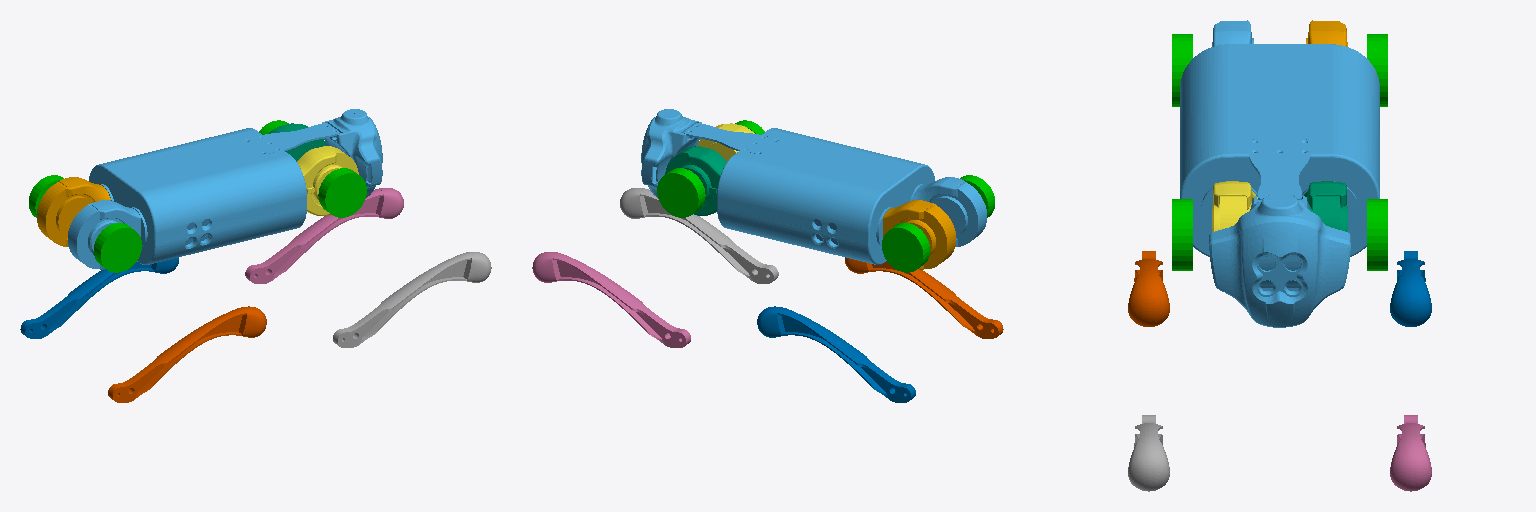
--- What the picture shows (computed from the rendered views, not written in the file) ---
Views: 3 orthographic renders of the robot side by side, from view 1: azimuth 30°, elevation 25°; view 2: azimuth 150°, elevation 25°; view 3: azimuth 270°, elevation 25°.
Robot: go1 — 46 links, 45 joints (12 revolute, 33 fixed); root link base; default pose: joints at zero except 4 at the middle of their limits (FR_calf_joint = -1.85, FL_calf_joint = -1.85, RR_calf_joint = -1.85, RL_calf_joint = -1.85).
Links seen in each view (by area): view 1: trunk, FR_calf, RR_calf, FL_calf, RL_hip, RL_calf, RR_hip, FR_hip, FR_calf_rotor, RR_calf_rotor, FL_hip, RL_calf_rotor; view 2: trunk, FL_calf, RL_calf, FR_calf, RR_hip, RR_calf, RL_hip, FL_hip, FL_calf_rotor, RL_calf_rotor, FR_hip, RR_calf_rotor; view 3: trunk, FR_calf, FL_calf, RR_calf, RL_calf, FR_hip, FL_hip, FR_calf_rotor, FL_calf_rotor, RR_calf_rotor, RL_calf_rotor, RR_hip (+1 smaller).
Boxes of the visible links, bbox=[...] form: trunk: bbox=[89, 109, 382, 264]; FR_calf: bbox=[333, 252, 491, 347]; RR_calf: bbox=[108, 306, 266, 402]; FL_calf: bbox=[245, 188, 403, 283]; RL_hip: bbox=[37, 177, 110, 246]; RL_calf: bbox=[20, 257, 178, 338]; RR_hip: bbox=[68, 200, 140, 269]; FR_hip: bbox=[297, 146, 358, 215]; FR_calf_rotor: bbox=[318, 168, 366, 217]; RR_calf_rotor: bbox=[94, 223, 141, 272]; FL_hip: bbox=[269, 123, 326, 161]; RL_calf_rotor: bbox=[29, 175, 63, 217]; trunk: bbox=[641, 109, 934, 264]; FL_calf: bbox=[532, 252, 690, 347]; RL_calf: bbox=[757, 306, 915, 402]; FR_calf: bbox=[620, 188, 778, 283]; RR_hip: bbox=[913, 177, 986, 246]; RR_calf: bbox=[845, 257, 1003, 338]; RL_hip: bbox=[883, 200, 955, 269]; FL_hip: bbox=[665, 146, 726, 215]; FL_calf_rotor: bbox=[657, 168, 705, 217]; RL_calf_rotor: bbox=[882, 223, 929, 272]; FR_hip: bbox=[697, 123, 754, 161]; RR_calf_rotor: bbox=[960, 175, 994, 217]; trunk: bbox=[1180, 44, 1379, 327]; FR_calf: bbox=[1128, 415, 1169, 491]; FL_calf: bbox=[1390, 415, 1431, 491]; RR_calf: bbox=[1128, 251, 1169, 326]; RL_calf: bbox=[1390, 251, 1431, 326]; FR_hip: bbox=[1212, 181, 1257, 231]; FL_hip: bbox=[1302, 181, 1347, 231]; FR_calf_rotor: bbox=[1172, 199, 1192, 270]; FL_calf_rotor: bbox=[1367, 199, 1387, 270]; RR_calf_rotor: bbox=[1172, 34, 1192, 106]; RL_calf_rotor: bbox=[1367, 34, 1387, 106]; RR_hip: bbox=[1212, 20, 1253, 46].
Bounding box of the posed robot: 0.6511 × 0.294 × 0.3019 m (x, y, z).
Meshes: 7 distinct files referenced, 9 mesh visuals loaded (3 Collada DAE); not drawn: 12 (reference not matched to a file when rendering).

robot.urdf — go1:
<?xml version="1.0" ?>
<robot name="go1" xmlns:xacro="http://www.ros.org/wiki/xacro">
  <material name="black">
    <color rgba="0.0 0.0 0.0 1.0"/>
  </material>
  <material name="blue">
    <color rgba="0.0 0.0 0.8 1.0"/>
  </material>
  <material name="green">
    <color rgba="0.0 0.8 0.0 1.0"/>
  </material>
  <material name="grey">
    <color rgba="0.2 0.2 0.2 1.0"/>
  </material>
  <material name="silver">
    <color rgba="0.9137254901960784 0.9137254901960784 0.8470588235294118 1.0"/>
  </material>
  <material name="orange">
    <!-- <color rgba="1.0 0.4235294117647059 0.0392156862745098 1.0"/> -->
    <color rgba="0.12 0.15 0.2 1.0"/>
  </material>
  <material name="brown">
    <color rgba="0.8705882352941177 0.8117647058823529 0.7647058823529411 1.0"/>
  </material>
  <material name="red">
    <color rgba="0.8 0.0 0.0 1.0"/>
  </material>
  <material name="white">
    <color rgba="1.0 1.0 1.0 1.0"/>
  </material>
  <link name="base">
    <visual>
      <origin rpy="0 0 0" xyz="0 0 0"/>
      <geometry>
        <box size="0.001 0.001 0.001"/>
      </geometry>
    </visual>
  </link>
  <joint name="floating_base" type="fixed">
    <origin rpy="0 0 0" xyz="0 0 0"/>
    <parent link="base"/>
    <child link="trunk"/>
  </joint>
  <link name="trunk">
    <visual>
      <origin rpy="0 0 0" xyz="0 0 0"/>
      <geometry>
        <mesh filename="../meshes/trunk.dae" scale="1 1 1"/>
      </geometry>
      <!-- <material name="orange"/> -->
    </visual>
    <collision>
      <origin rpy="0 0 0" xyz="0 0 0"/>
      <geometry>
        <box size="0.3762 0.0935 0.114"/>
      </geometry>
    </collision>
    <inertial>
      <origin rpy="0 0 0" xyz="0.0223 0.002 -0.0005"/>
      <mass value="5.204"/>
      <inertia ixx="0.0168128557" ixy="-0.0002296769" ixz="-0.0002945293" iyy="0.063009565" iyz="-4.18731e-05" izz="0.0716547275"/>
    </inertial>
  </link>
  <joint name="imu_joint" type="fixed">
    <parent link="trunk"/>
    <child link="imu_link"/>
    <origin rpy="0 0 0" xyz="-0.01592 -0.06659 -0.00617"/>
  </joint>
  <link name="imu_link">
    <inertial>
      <mass value="0.001"/>
      <origin rpy="0 0 0" xyz="0 0 0"/>
      <inertia ixx="0.0001" ixy="0" ixz="0" iyy="0.0001" iyz="0" izz="0.0001"/>
    </inertial>
    <visual>
      <origin rpy="0 0 0" xyz="0 0 0"/>
      <geometry>
        <box size="0.001 0.001 0.001"/>
      </geometry>
      <material name="red"/>
    </visual>
    <!-- <collision>
      <origin rpy="0 0 0" xyz="0 0 0"/>
      <geometry>
        <box size=".001 .001 .001"/>
      </geometry>
    </collision> -->
  </link>
  <joint name="FR_hip_joint" type="revolute">
    <origin rpy="0 0 0" xyz="0.1881 -0.04675 0"/>
    <parent link="trunk"/>
    <child link="FR_hip"/>
    <axis xyz="1 0 0"/>
    <dynamics damping="0" friction="0"/>
    <limit effort="23.7" lower="-0.863" upper="0.863" velocity="30.1"/>
  </joint>
  <joint name="FR_hip_rotor_joint" type="fixed">
    <origin rpy="0 0 0" xyz="0.11215 -0.04675 0"/>
    <parent link="trunk"/>
    <child link="FR_hip_rotor"/>
  </joint>
  <link name="FR_hip">
    <visual>
      <origin rpy="3.141592653589793 0 0" xyz="0 0 0"/>
      <geometry>
        <mesh filename="../meshes/hip.dae" scale="1 1 1"/>
      </geometry>
      <!-- <material name="orange"/> -->
    </visual>
    <!-- <collision>
      <origin rpy="1.5707963267948966 0 0" xyz="0 -0.08 0"/>
      <geometry>
        <cylinder length="0.04" radius="0.046"/>
      </geometry>
    </collision> -->
    <inertial>
      <origin rpy="0 0 0" xyz="-0.005657 0.008752 -0.000102"/>
      <mass value="0.591"/>
      <inertia ixx="0.000334008405" ixy="1.0826066e-05" ixz="1.290732e-06" iyy="0.000619101213" iyz="-1.643194e-06" izz="0.00040057614"/>
    </inertial>
  </link>
  <link name="FR_hip_rotor">
    <visual>
      <origin rpy="0 1.5707963267948966 0" xyz="0 0 0"/>
      <geometry>
        <cylinder length="0.02" radius="0.035"/>
      </geometry>
      <material name="green"/>
    </visual>
    <!-- <collision>
      <origin rpy="0 1.5707963267948966 0" xyz="0 0 0"/>
      <geometry>
        <cylinder length="0.02" radius="0.035"/>
      </geometry>
    </collision> -->
    <inertial>
      <origin rpy="0 0 0" xyz="0.0 0.0 0.0"/>
      <mass value="0.089"/>
      <inertia ixx="0.000111842" ixy="0.0" ixz="0.0" iyy="5.9647e-05" iyz="0.0" izz="5.9647e-05"/>
    </inertial>
  </link>
  <joint name="FR_thigh_joint" type="revolute">
    <origin rpy="0 0 0" xyz="0 -0.08 0"/>
    <parent link="FR_hip"/>
    <child link="FR_thigh"/>
    <axis xyz="0 1 0"/>
    <dynamics damping="0" friction="0"/>
    <limit effort="23.7" lower="-0.686" upper="4.501" velocity="30.1"/>
  </joint>
  <joint name="FR_thigh_rotor_joint" type="fixed">
    <origin rpy="0 0 0" xyz="0.0 0.00015 0"/>
    <parent link="FR_hip"/>
    <child link="FR_thigh_rotor"/>
  </joint>
  <link name="FR_thigh">
    <visual>
      <origin rpy="0 0 0" xyz="0 0 0"/>
      <geometry>
        <mesh filename="../meshes/thigh_mirror.dae" scale="1 1 1"/>
      </geometry>
      <!-- <material name="orange"/> -->
    </visual>
    <collision>
      <origin rpy="0 1.5707963267948966 0" xyz="0 0 -0.1065"/>
      <geometry>
        <box size="0.213 0.0245 0.034"/>
      </geometry>
    </collision>
    <inertial>
      <origin rpy="0 0 0" xyz="-0.003342 0.018054 -0.033451"/>
      <mass value="0.92"/>
      <inertia ixx="0.004431760472" ixy="-5.7496807e-05" ixz="-0.000218457134" iyy="0.004485671726" iyz="-0.000572001265" izz="0.000740309489"/>
    </inertial>
  </link>
  <link name="FR_thigh_rotor">
    <visual>
      <origin rpy="1.5707963267948966 0 0" xyz="0 0 0"/>
      <geometry>
        <cylinder length="0.02" radius="0.035"/>
      </geometry>
      <material name="green"/>
    </visual>
    <!-- <collision>
      <origin rpy="1.5707963267948966 0 0" xyz="0 0 0"/>
      <geometry>
        <cylinder length="0.02" radius="0.035"/>
      </geometry>
    </collision> -->
    <inertial>
      <origin rpy="0 0 0" xyz="0.0 0.0 0.0"/>
      <mass value="0.089"/>
      <inertia ixx="5.9647e-05" ixy="0.0" ixz="0.0" iyy="0.000111842" iyz="0.0" izz="5.9647e-05"/>
    </inertial>
  </link>
  <joint name="FR_calf_joint" type="revolute">
    <origin rpy="0 0 0" xyz="0 0 -0.213"/>
    <parent link="FR_thigh"/>
    <child link="FR_calf"/>
    <axis xyz="0 1 0"/>
    <dynamics damping="0" friction="0"/>
    <limit effort="35.55" lower="-2.818" upper="-0.888" velocity="20.06"/>
  </joint>
  <joint name="FR_calf_rotor_joint" type="fixed">
    <origin rpy="0 0 0" xyz="0.0 0.03235 0"/>
    <parent link="FR_thigh"/>
    <child link="FR_calf_rotor"/>
  </joint>
  <link name="FR_calf">
    <visual>
      <origin rpy="0 0 0" xyz="0 0 0"/>
      <geometry>
        <mesh filename="../meshes/calf.dae" scale="1 1 1"/>
      </geometry>
      <!-- <material name="orange"/> -->
    </visual>
    <collision>
      <origin rpy="0 1.5707963267948966 0" xyz="0 0 -0.1065"/>
      <geometry>
        <box size="0.213 0.016 0.016"/>
      </geometry>
    </collision>
    <inertial>
      <origin rpy="0 0 0" xyz="0.006197 0.001408 -0.116695"/>
      <mass value="0.135862"/>
      <inertia ixx="0.001088793059" ixy="-2.55679e-07" ixz="7.117814e-06" iyy="0.001100428748" iyz="2.077264e-06" izz="2.4787446e-05"/>
    </inertial>
  </link>
  <link name="FR_calf_rotor">
    <visual>
      <origin rpy="1.5707963267948966 0 0" xyz="0 0 0"/>
      <geometry>
        <cylinder length="0.02" radius="0.035"/>
      </geometry>
      <material name="green"/>
    </visual>
    <!-- <collision>
      <origin rpy="1.5707963267948966 0 0" xyz="0 0 0"/>
      <geometry>
        <cylinder length="0.02" radius="0.035"/>
      </geometry>
    </collision> -->
    <inertial>
      <origin rpy="0 0 0" xyz="0.0 0.0 0.0"/>
      <mass value="0.089"/>
      <inertia ixx="5.9647e-05" ixy="0.0" ixz="0.0" iyy="0.000111842" iyz="0.0" izz="5.9647e-05"/>
    </inertial>
  </link>
  <joint name="FR_foot_fixed" type="fixed" dont_collapse="true">
    <origin rpy="0 0 0" xyz="0 0 -0.213"/>
    <parent link="FR_calf"/>
    <child link="FR_foot"/>
  </joint>
  <link name="FR_foot">
    <visual>
      <origin rpy="0 0 0" xyz="0 0 0"/>
      <geometry>
        <sphere radius="0.01"/>
      </geometry>
      <material name="black"/>
    </visual>
    <collision>
      <origin rpy="0 0 0" xyz="0 0 0"/>
      <geometry>
        <sphere radius="0.02"/>
      </geometry>
    </collision>
    <inertial>
      <mass value="0.06"/>
      <inertia ixx="9.600000000000001e-06" ixy="0.0" ixz="0.0" iyy="9.600000000000001e-06" iyz="0.0" izz="9.600000000000001e-06"/>
    </inertial>
  </link>
  <joint name="FL_hip_joint" type="revolute">
    <origin rpy="0 0 0" xyz="0.1881 0.04675 0"/>
    <parent link="trunk"/>
    <child link="FL_hip"/>
    <axis xyz="1 0 0"/>
    <dynamics damping="0" friction="0"/>
    <limit effort="23.7" lower="-0.863" upper="0.863" velocity="30.1"/>
  </joint>
  <joint name="FL_hip_rotor_joint" type="fixed">
    <origin rpy="0 0 0" xyz="0.11215 0.04675 0"/>
    <parent link="trunk"/>
    <child link="FL_hip_rotor"/>
  </joint>
  <link name="FL_hip">
    <visual>
      <origin rpy="0 0 0" xyz="0 0 0"/>
      <geometry>
        <mesh filename="../meshes/hip.dae" scale="1 1 1"/>
      </geometry>
      <!-- <material name="orange"/> -->
    </visual>
    <!-- <collision>
      <origin rpy="1.5707963267948966 0 0" xyz="0 0.08 0"/>
      <geometry>
        <cylinder length="0.04" radius="0.046"/>
      </geometry>
    </collision> -->
    <inertial>
      <origin rpy="0 0 0" xyz="-0.005657 -0.008752 -0.000102"/>
      <mass value="0.591"/>
      <inertia ixx="0.000334008405" ixy="-1.0826066e-05" ixz="1.290732e-06" iyy="0.000619101213" iyz="1.643194e-06" izz="0.00040057614"/>
    </inertial>
  </link>
  <link name="FL_hip_rotor">
    <visual>
      <origin rpy="0 1.5707963267948966 0" xyz="0 0 0"/>
      <geometry>
        <cylinder length="0.02" radius="0.035"/>
      </geometry>
      <material name="green"/>
    </visual>
    <!-- <collision>
      <origin rpy="0 1.5707963267948966 0" xyz="0 0 0"/>
      <geometry>
        <cylinder length="0.02" radius="0.035"/>
      </geometry>
    </collision> -->
    <inertial>
      <origin rpy="0 0 0" xyz="0.0 0.0 0.0"/>
      <mass value="0.089"/>
      <inertia ixx="0.000111842" ixy="0.0" ixz="0.0" iyy="5.9647e-05" iyz="0.0" izz="5.9647e-05"/>
    </inertial>
  </link>
  <joint name="FL_thigh_joint" type="revolute">
    <origin rpy="0 0 0" xyz="0 0.08 0"/>
    <parent link="FL_hip"/>
    <child link="FL_thigh"/>
    <axis xyz="0 1 0"/>
    <dynamics damping="0" friction="0"/>
    <limit effort="23.7" lower="-0.686" upper="4.501" velocity="30.1"/>
  </joint>
  <joint name="FL_thigh_rotor_joint" type="fixed">
    <origin rpy="0 0 0" xyz="0.0 -0.00015 0"/>
    <parent link="FL_hip"/>
    <child link="FL_thigh_rotor"/>
  </joint>
  <link name="FL_thigh">
    <visual>
      <origin rpy="0 0 0" xyz="0 0 0"/>
      <geometry>
        <mesh filename="../meshes/thigh.dae" scale="1 1 1"/>
      </geometry>
      <!-- <material name="orange"/> -->
    </visual>
    <collision>
      <origin rpy="0 1.5707963267948966 0" xyz="0 0 -0.1065"/>
      <geometry>
        <box size="0.213 0.0245 0.034"/>
      </geometry>
    </collision>
    <inertial>
      <origin rpy="0 0 0" xyz="-0.003342 -0.018054 -0.033451"/>
      <mass value="0.92"/>
      <inertia ixx="0.004431760472" ixy="5.7496807e-05" ixz="-0.000218457134" iyy="0.004485671726" iyz="0.000572001265" izz="0.000740309489"/>
    </inertial>
  </link>
  <link name="FL_thigh_rotor">
    <visual>
      <origin rpy="1.5707963267948966 0 0" xyz="0 0 0"/>
      <geometry>
        <cylinder length="0.02" radius="0.035"/>
      </geometry>
      <material name="green"/>
    </visual>
    <!-- <collision>
      <origin rpy="1.5707963267948966 0 0" xyz="0 0 0"/>
      <geometry>
        <cylinder length="0.02" radius="0.035"/>
      </geometry>
    </collision> -->
    <inertial>
      <origin rpy="0 0 0" xyz="0.0 0.0 0.0"/>
      <mass value="0.089"/>
      <inertia ixx="5.9647e-05" ixy="0.0" ixz="0.0" iyy="0.000111842" iyz="0.0" izz="5.9647e-05"/>
    </inertial>
  </link>
  <joint name="FL_calf_joint" type="revolute">
    <origin rpy="0 0 0" xyz="0 0 -0.213"/>
    <parent link="FL_thigh"/>
    <child link="FL_calf"/>
    <axis xyz="0 1 0"/>
    <dynamics damping="0" friction="0"/>
    <limit effort="35.55" lower="-2.818" upper="-0.888" velocity="20.06"/>
  </joint>
  <joint name="FL_calf_rotor_joint" type="fixed">
    <origin rpy="0 0 0" xyz="0.0 -0.03235 0"/>
    <parent link="FL_thigh"/>
    <child link="FL_calf_rotor"/>
  </joint>
  <link name="FL_calf">
    <visual>
      <origin rpy="0 0 0" xyz="0 0 0"/>
      <geometry>
        <mesh filename="../meshes/calf.dae" scale="1 1 1"/>
      </geometry>
      <!-- <material name="orange"/> -->
    </visual>
    <collision>
      <origin rpy="0 1.5707963267948966 0" xyz="0 0 -0.1065"/>
      <geometry>
        <box size="0.213 0.016 0.016"/>
      </geometry>
    </collision>
    <inertial>
      <origin rpy="0 0 0" xyz="0.006197 0.001408 -0.116695"/>
      <mass value="0.135862"/>
      <inertia ixx="0.001088793059" ixy="-2.55679e-07" ixz="7.117814e-06" iyy="0.001100428748" iyz="2.077264e-06" izz="2.4787446e-05"/>
    </inertial>
  </link>
  <link name="FL_calf_rotor">
    <visual>
      <origin rpy="1.5707963267948966 0 0" xyz="0 0 0"/>
      <geometry>
        <cylinder length="0.02" radius="0.035"/>
      </geometry>
      <material name="green"/>
    </visual>
    <!-- <collision>
      <origin rpy="1.5707963267948966 0 0" xyz="0 0 0"/>
      <geometry>
        <cylinder length="0.02" radius="0.035"/>
      </geometry>
    </collision> -->
    <inertial>
      <origin rpy="0 0 0" xyz="0.0 0.0 0.0"/>
      <mass value="0.089"/>
      <inertia ixx="5.9647e-05" ixy="0.0" ixz="0.0" iyy="0.000111842" iyz="0.0" izz="5.9647e-05"/>
    </inertial>
  </link>
  <joint name="FL_foot_fixed" type="fixed" dont_collapse="true">
    <origin rpy="0 0 0" xyz="0 0 -0.213"/>
    <parent link="FL_calf"/>
    <child link="FL_foot"/>
  </joint>
  <link name="FL_foot">
    <visual>
      <origin rpy="0 0 0" xyz="0 0 0"/>
      <geometry>
        <sphere radius="0.01"/>
      </geometry>
      <material name="black"/>
    </visual>
    <collision>
      <origin rpy="0 0 0" xyz="0 0 0"/>
      <geometry>
        <sphere radius="0.02"/>
      </geometry>
    </collision>
    <inertial>
      <mass value="0.06"/>
      <inertia ixx="9.600000000000001e-06" ixy="0.0" ixz="0.0" iyy="9.600000000000001e-06" iyz="0.0" izz="9.600000000000001e-06"/>
    </inertial>
  </link>
  <joint name="RR_hip_joint" type="revolute">
    <origin rpy="0 0 0" xyz="-0.1881 -0.04675 0"/>
    <parent link="trunk"/>
    <child link="RR_hip"/>
    <axis xyz="1 0 0"/>
    <dynamics damping="0" friction="0"/>
    <limit effort="23.7" lower="-0.863" upper="0.863" velocity="30.1"/>
  </joint>
  <joint name="RR_hip_rotor_joint" type="fixed">
    <origin rpy="0 0 0" xyz="-0.11215 -0.04675 0"/>
    <parent link="trunk"/>
    <child link="RR_hip_rotor"/>
  </joint>
  <link name="RR_hip">
    <visual>
      <origin rpy="3.141592653589793 3.141592653589793 0" xyz="0 0 0"/>
      <geometry>
        <mesh filename="../meshes/hip.dae" scale="1 1 1"/>
      </geometry>
      <!-- <material name="orange"/> -->
    </visual>
    <!-- <collision>
      <origin rpy="1.5707963267948966 0 0" xyz="0 -0.08 0"/>
      <geometry>
        <cylinder length="0.04" radius="0.046"/>
      </geometry>
    </collision> -->
    <inertial>
      <origin rpy="0 0 0" xyz="0.005657 0.008752 -0.000102"/>
      <mass value="0.591"/>
      <inertia ixx="0.000334008405" ixy="-1.0826066e-05" ixz="-1.290732e-06" iyy="0.000619101213" iyz="-1.643194e-06" izz="0.00040057614"/>
    </inertial>
  </link>
  <link name="RR_hip_rotor">
    <visual>
      <origin rpy="0 1.5707963267948966 0" xyz="0 0 0"/>
      <geometry>
        <cylinder length="0.02" radius="0.035"/>
      </geometry>
      <material name="green"/>
    </visual>
    <!-- <collision>
      <origin rpy="0 1.5707963267948966 0" xyz="0 0 0"/>
      <geometry>
        <cylinder length="0.02" radius="0.035"/>
      </geometry>
    </collision> -->
    <inertial>
      <origin rpy="0 0 0" xyz="0.0 0.0 0.0"/>
      <mass value="0.089"/>
      <inertia ixx="0.000111842" ixy="0.0" ixz="0.0" iyy="5.9647e-05" iyz="0.0" izz="5.9647e-05"/>
    </inertial>
  </link>
  <joint name="RR_thigh_joint" type="revolute">
    <origin rpy="0 0 0" xyz="0 -0.08 0"/>
    <parent link="RR_hip"/>
    <child link="RR_thigh"/>
    <axis xyz="0 1 0"/>
    <dynamics damping="0" friction="0"/>
    <limit effort="23.7" lower="-0.686" upper="4.501" velocity="30.1"/>
  </joint>
  <joint name="RR_thigh_rotor_joint" type="fixed">
    <origin rpy="0 0 0" xyz="0.0 0.00015 0"/>
    <parent link="RR_hip"/>
    <child link="RR_thigh_rotor"/>
  </joint>
  <link name="RR_thigh">
    <visual>
      <origin rpy="0 0 0" xyz="0 0 0"/>
      <geometry>
        <mesh filename="../meshes/thigh_mirror.dae" scale="1 1 1"/>
      </geometry>
      <!-- <material name="orange"/> -->
    </visual>
    <collision>
      <origin rpy="0 1.5707963267948966 0" xyz="0 0 -0.1065"/>
      <geometry>
        <box size="0.213 0.0245 0.034"/>
      </geometry>
    </collision>
    <inertial>
      <origin rpy="0 0 0" xyz="-0.003342 0.018054 -0.033451"/>
      <mass value="0.92"/>
      <inertia ixx="0.004431760472" ixy="-5.7496807e-05" ixz="-0.000218457134" iyy="0.004485671726" iyz="-0.000572001265" izz="0.000740309489"/>
    </inertial>
  </link>
  <link name="RR_thigh_rotor">
    <visual>
      <origin rpy="1.5707963267948966 0 0" xyz="0 0 0"/>
      <geometry>
        <cylinder length="0.02" radius="0.035"/>
      </geometry>
      <material name="green"/>
    </visual>
    <!-- <collision>
      <origin rpy="1.5707963267948966 0 0" xyz="0 0 0"/>
      <geometry>
        <cylinder length="0.02" radius="0.035"/>
      </geometry>
    </collision> -->
    <inertial>
      <origin rpy="0 0 0" xyz="0.0 0.0 0.0"/>
      <mass value="0.089"/>
      <inertia ixx="5.9647e-05" ixy="0.0" ixz="0.0" iyy="0.000111842" iyz="0.0" izz="5.9647e-05"/>
    </inertial>
  </link>
  <joint name="RR_calf_joint" type="revolute">
    <origin rpy="0 0 0" xyz="0 0 -0.213"/>
    <parent link="RR_thigh"/>
    <child link="RR_calf"/>
    <axis xyz="0 1 0"/>
    <dynamics damping="0" friction="0"/>
    <limit effort="35.55" lower="-2.818" upper="-0.888" velocity="20.06"/>
  </joint>
  <joint name="RR_calf_rotor_joint" type="fixed">
    <origin rpy="0 0 0" xyz="0.0 0.03235 0"/>
    <parent link="RR_thigh"/>
    <child link="RR_calf_rotor"/>
  </joint>
  <link name="RR_calf">
    <visual>
      <origin rpy="0 0 0" xyz="0 0 0"/>
      <geometry>
        <mesh filename="../meshes/calf.dae" scale="1 1 1"/>
      </geometry>
      <!-- <material name="orange"/> -->
    </visual>
    <collision>
      <origin rpy="0 1.5707963267948966 0" xyz="0 0 -0.1065"/>
      <geometry>
        <box size="0.213 0.016 0.016"/>
      </geometry>
    </collision>
    <inertial>
      <origin rpy="0 0 0" xyz="0.006197 0.001408 -0.116695"/>
      <mass value="0.135862"/>
      <inertia ixx="0.001088793059" ixy="-2.55679e-07" ixz="7.117814e-06" iyy="0.001100428748" iyz="2.077264e-06" izz="2.4787446e-05"/>
    </inertial>
  </link>
  <link name="RR_calf_rotor">
    <visual>
      <origin rpy="1.5707963267948966 0 0" xyz="0 0 0"/>
      <geometry>
        <cylinder length="0.02" radius="0.035"/>
      </geometry>
      <material name="green"/>
    </visual>
    <collision>
      <origin rpy="1.5707963267948966 0 0" xyz="0 0 0"/>
      <geometry>
        <cylinder length="0.02" radius="0.035"/>
      </geometry>
    </collision>
    <inertial>
      <origin rpy="0 0 0" xyz="0.0 0.0 0.0"/>
      <mass value="0.089"/>
      <inertia ixx="5.9647e-05" ixy="0.0" ixz="0.0" iyy="0.000111842" iyz="0.0" izz="5.9647e-05"/>
    </inertial>
  </link>
  <joint name="RR_foot_fixed" type="fixed" dont_collapse="true">
    <origin rpy="0 0 0" xyz="0 0 -0.213"/>
    <parent link="RR_calf"/>
    <child link="RR_foot"/>
  </joint>
  <link name="RR_foot">
    <visual>
      <origin rpy="0 0 0" xyz="0 0 0"/>
      <geometry>
        <sphere radius="0.01"/>
      </geometry>
      <material name="black"/>
    </visual>
    <collision>
      <origin rpy="0 0 0" xyz="0 0 0"/>
      <geometry>
        <sphere radius="0.02"/>
      </geometry>
    </collision>
    <inertial>
      <mass value="0.06"/>
      <inertia ixx="9.600000000000001e-06" ixy="0.0" ixz="0.0" iyy="9.600000000000001e-06" iyz="0.0" izz="9.600000000000001e-06"/>
    </inertial>
  </link>
  <joint name="RL_hip_joint" type="revolute">
    <origin rpy="0 0 0" xyz="-0.1881 0.04675 0"/>
    <parent link="trunk"/>
    <child link="RL_hip"/>
    <axis xyz="1 0 0"/>
    <dynamics damping="0" friction="0"/>
    <limit effort="23.7" lower="-0.863" upper="0.863" velocity="30.1"/>
  </joint>
  <joint name="RL_hip_rotor_joint" type="fixed">
    <origin rpy="0 0 0" xyz="-0.11215 0.04675 0"/>
    <parent link="trunk"/>
    <child link="RL_hip_rotor"/>
  </joint>
  <link name="RL_hip">
    <visual>
      <origin rpy="0 3.141592653589793 0" xyz="0 0 0"/>
      <geometry>
        <mesh filename="../meshes/hip.dae" scale="1 1 1"/>
      </geometry>
      <!-- <material name="orange"/> -->
    </visual>
    <!-- <collision>
      <origin rpy="1.5707963267948966 0 0" xyz="0 0.08 0"/>
      <geometry>
        <cylinder length="0.04" radius="0.046"/>
      </geometry>
    </collision> -->
    <inertial>
      <origin rpy="0 0 0" xyz="0.005657 -0.008752 -0.000102"/>
      <mass value="0.591"/>
      <inertia ixx="0.000334008405" ixy="1.0826066e-05" ixz="-1.290732e-06" iyy="0.000619101213" iyz="1.643194e-06" izz="0.00040057614"/>
    </inertial>
  </link>
  <link name="RL_hip_rotor">
    <visual>
      <origin rpy="0 1.5707963267948966 0" xyz="0 0 0"/>
      <geometry>
        <cylinder length="0.02" radius="0.035"/>
      </geometry>
      <material name="green"/>
    </visual>
    <!-- <collision>
      <origin rpy="0 1.5707963267948966 0" xyz="0 0 0"/>
      <geometry>
        <cylinder length="0.02" radius="0.035"/>
      </geometry>
    </collision> -->
    <inertial>
      <origin rpy="0 0 0" xyz="0.0 0.0 0.0"/>
      <mass value="0.089"/>
      <inertia ixx="0.000111842" ixy="0.0" ixz="0.0" iyy="5.9647e-05" iyz="0.0" izz="5.9647e-05"/>
    </inertial>
  </link>
  <joint name="RL_thigh_joint" type="revolute">
    <origin rpy="0 0 0" xyz="0 0.08 0"/>
    <parent link="RL_hip"/>
    <child link="RL_thigh"/>
    <axis xyz="0 1 0"/>
    <dynamics damping="0" friction="0"/>
    <limit effort="23.7" lower="-0.686" upper="4.501" velocity="30.1"/>
  </joint>
  <joint name="RL_thigh_rotor_joint" type="fixed">
    <origin rpy="0 0 0" xyz="0.0 -0.00015 0"/>
    <parent link="RL_hip"/>
    <child link="RL_thigh_rotor"/>
  </joint>
  <link name="RL_thigh">
    <visual>
      <origin rpy="0 0 0" xyz="0 0 0"/>
      <geometry>
        <mesh filename="../meshes/thigh.dae" scale="1 1 1"/>
      </geometry>
      <!-- <material name="orange"/> -->
    </visual>
    <collision>
      <origin rpy="0 1.5707963267948966 0" xyz="0 0 -0.1065"/>
      <geometry>
        <box size="0.213 0.0245 0.034"/>
      </geometry>
    </collision>
    <inertial>
      <origin rpy="0 0 0" xyz="-0.003342 -0.018054 -0.033451"/>
      <mass value="0.92"/>
      <inertia ixx="0.004431760472" ixy="5.7496807e-05" ixz="-0.000218457134" iyy="0.004485671726" iyz="0.000572001265" izz="0.000740309489"/>
    </inertial>
  </link>
  <link name="RL_thigh_rotor">
    <visual>
      <origin rpy="1.5707963267948966 0 0" xyz="0 0 0"/>
      <geometry>
        <cylinder length="0.02" radius="0.035"/>
      </geometry>
      <material name="green"/>
    </visual>
    <!-- <collision>
      <origin rpy="1.5707963267948966 0 0" xyz="0 0 0"/>
      <geometry>
        <cylinder length="0.02" radius="0.035"/>
      </geometry>
    </collision> -->
    <inertial>
      <origin rpy="0 0 0" xyz="0.0 0.0 0.0"/>
      <mass value="0.089"/>
      <inertia ixx="5.9647e-05" ixy="0.0" ixz="0.0" iyy="0.000111842" iyz="0.0" izz="5.9647e-05"/>
    </inertial>
  </link>
  <joint name="RL_calf_joint" type="revolute">
    <origin rpy="0 0 0" xyz="0 0 -0.213"/>
    <parent link="RL_thigh"/>
    <child link="RL_calf"/>
    <axis xyz="0 1 0"/>
    <dynamics damping="0" friction="0"/>
    <limit effort="35.55" lower="-2.818" upper="-0.888" velocity="20.06"/>
  </joint>
  <joint name="RL_calf_rotor_joint" type="fixed">
    <origin rpy="0 0 0" xyz="0.0 -0.03235 0"/>
    <parent link="RL_thigh"/>
    <child link="RL_calf_rotor"/>
  </joint>
  <link name="RL_calf">
    <visual>
      <origin rpy="0 0 0" xyz="0 0 0"/>
      <geometry>
        <mesh filename="../meshes/calf.dae" scale="1 1 1"/>
      </geometry>
      <!-- <material name="orange"/> -->
    </visual>
    <collision>
      <origin rpy="0 1.5707963267948966 0" xyz="0 0 -0.1065"/>
      <geometry>
        <box size="0.213 0.016 0.016"/>
      </geometry>
    </collision>
    <inertial>
      <origin rpy="0 0 0" xyz="0.006197 0.001408 -0.116695"/>
      <mass value="0.135862"/>
      <inertia ixx="0.001088793059" ixy="-2.55679e-07" ixz="7.117814e-06" iyy="0.001100428748" iyz="2.077264e-06" izz="2.4787446e-05"/>
    </inertial>
  </link>
  <link name="RL_calf_rotor">
    <visual>
      <origin rpy="1.5707963267948966 0 0" xyz="0 0 0"/>
      <geometry>
        <cylinder length="0.02" radius="0.035"/>
      </geometry>
      <material name="green"/>
    </visual>
    <!-- <collision>
      <origin rpy="1.5707963267948966 0 0" xyz="0 0 0"/>
      <geometry>
        <cylinder length="0.02" radius="0.035"/>
      </geometry>
    </collision> -->
    <inertial>
      <origin rpy="0 0 0" xyz="0.0 0.0 0.0"/>
      <mass value="0.089"/>
      <inertia ixx="5.9647e-05" ixy="0.0" ixz="0.0" iyy="0.000111842" iyz="0.0" izz="5.9647e-05"/>
    </inertial>
  </link>
  <joint name="RL_foot_fixed" type="fixed" dont_collapse="true">
    <origin rpy="0 0 0" xyz="0 0 -0.213"/>
    <parent link="RL_calf"/>
    <child link="RL_foot"/>
  </joint>
  <link name="RL_foot">
    <visual>
      <origin rpy="0 0 0" xyz="0 0 0"/>
      <geometry>
        <sphere radius="0.01"/>
      </geometry>
      <material name="black"/>
    </visual>
    <collision>
      <origin rpy="0 0 0" xyz="0 0 0"/>
      <geometry>
        <sphere radius="0.02"/>
      </geometry>
    </collision>
    <inertial>
      <mass value="0.06"/>
      <inertia ixx="9.600000000000001e-06" ixy="0.0" ixz="0.0" iyy="9.600000000000001e-06" iyz="0.0" izz="9.600000000000001e-06"/>
    </inertial>
  </link>


  <joint name="camera_joint_face" type="fixed" dont_collapse="true">
    <origin rpy="3.141592653589793 0 0" xyz="0.2785 0.0125 0.0167"/>
    <parent link="trunk"/>
    <child link="camera_face"/>
  </joint>
  <link name="camera_face">
    <!-- <collision>
      <origin rpy="0 0 0" xyz="0 0 0"/>
      <geometry>
        <box size=".001 .001 .001"/>
      </geometry>
    </collision> -->
    <visual>
      <origin rpy="0 0 0" xyz="0 0 0"/>
      <geometry>
        <mesh filename="../meshes/depthCamera.dae" scale="1 1 1"/>
      </geometry>
    </visual>
    <inertial>
      <mass value="1e-5"/>
      <origin rpy="0 0 0" xyz="0 0 0"/>
      <inertia ixx="1e-6" ixy="0" ixz="0" iyy="1e-6" iyz="0" izz="1e-6"/>
    </inertial>
  </link>
  <joint name="camera_optical_joint_face" type="fixed">
    <origin rpy="-1.5707963267948966 0 -1.5707963267948966" xyz="0 0 0"/>
    <parent link="camera_face"/>
    <child link="camera_optical_face"/>
  </joint>
  <link name="camera_optical_face">
        </link>
  <joint name="camera_joint_chin" type="fixed" dont_collapse="true">
    <origin rpy="3.141592653589793 1.5707963267948966 0" xyz="0.2522 0.0125 -0.0436"/>
    <parent link="trunk"/>
    <child link="camera_chin"/>
  </joint>
  <link name="camera_chin">
    <!-- <collision>
      <origin rpy="0 0 0" xyz="0 0 0"/>
      <geometry>
        <box size=".001 .001 .001"/>
      </geometry>
    </collision> -->
    <visual>
      <origin rpy="0 0 0" xyz="0 0 0"/>
      <geometry>
        <mesh filename="../meshes/depthCamera.dae" scale="1 1 1"/>
      </geometry>
    </visual>
    <inertial>
      <mass value="1e-5"/>
      <origin rpy="0 0 0" xyz="0 0 0"/>
      <inertia ixx="1e-6" ixy="0" ixz="0" iyy="1e-6" iyz="0" izz="1e-6"/>
    </inertial>
  </link>
  <joint name="camera_optical_joint_chin" type="fixed">
    <origin rpy="-1.5707963267948966 0 -1.5707963267948966" xyz="0 0 0"/>
    <parent link="camera_chin"/>
    <child link="camera_optical_chin"/>
  </joint>
  <link name="camera_optical_chin">
        </link>
  <joint name="camera_joint_left" type="fixed" dont_collapse="true">
    <origin rpy="3.141592653589793 0.2618 1.5707963267948966" xyz="-0.066 0.082 -0.0176"/>
    <parent link="trunk"/>
    <child link="camera_left"/>
  </joint>
  <link name="camera_left">
    <!-- <collision>
      <origin rpy="0 0 0" xyz="0 0 0"/>
      <geometry>
        <box size=".001 .001 .001"/>
      </geometry>
    </collision> -->
    <visual>
      <origin rpy="0 0 0" xyz="0 0 0"/>
      <geometry>
        <mesh filename="../meshes/depthCamera.dae" scale="1 1 1"/>
      </geometry>
    </visual>
    <inertial>
      <mass value="1e-5"/>
      <origin rpy="0 0 0" xyz="0 0 0"/>
      <inertia ixx="1e-6" ixy="0" ixz="0" iyy="1e-6" iyz="0" izz="1e-6"/>
    </inertial>
  </link>
  <joint name="camera_optical_joint_left" type="fixed">
    <origin rpy="-1.5707963267948966 0 -1.5707963267948966" xyz="0 0 0"/>
    <parent link="camera_left"/>
    <child link="camera_optical_left"/>
  </joint>
  <link name="camera_optical_left">
        </link>
  <joint name="camera_joint_right" type="fixed" dont_collapse="true">
    <origin rpy="3.141592653589793 0.2618 -1.5707963267948966" xyz="-0.041 -0.082 -0.0176"/>
    <parent link="trunk"/>
    <child link="camera_right"/>
  </joint>
  <link name="camera_right" dont_collapse="true">
    <!-- <collision>
      <origin rpy="0 0 0" xyz="0 0 0"/>
      <geometry>
        <box size=".001 .001 .001"/>
      </geometry>
    </collision> -->
    <visual>
      <origin rpy="0 0 0" xyz="0 0 0"/>
      <geometry>
        <mesh filename="../meshes/depthCamera.dae" scale="1 1 1"/>
      </geometry>
    </visual>
    <inertial>
      <mass value="1e-5"/>
      <origin rpy="0 0 0" xyz="0 0 0"/>
      <inertia ixx="1e-6" ixy="0" ixz="0" iyy="1e-6" iyz="0" izz="1e-6"/>
    </inertial>
  </link>
  <joint name="camera_optical_joint_right" type="fixed">
    <origin rpy="-1.5707963267948966 0 -1.5707963267948966" xyz="0 0 0"/>
    <parent link="camera_right"/>
    <child link="camera_optical_right"/>
  </joint>
  <link name="camera_optical_right">
        </link>
  <joint name="camera_joint_rearDown" type="fixed" dont_collapse="true">
    <origin rpy="3.141592653589793 1.5707963267948966 0" xyz="-0.0825 0.0125 -0.04365"/>
    <parent link="trunk"/>
    <child link="camera_rearDown"/>
  </joint>
  <link name="camera_rearDown">
    <!-- <collision>
      <origin rpy="0 0 0" xyz="0 0 0"/>
      <geometry>
        <box size=".001 .001 .001"/>
      </geometry>
    </collision> -->
    <visual>
      <origin rpy="0 0 0" xyz="0 0 0"/>
      <geometry>
        <mesh filename="../meshes/depthCamera.dae" scale="1 1 1"/>
      </geometry>
    </visual>
    <inertial>
      <mass value="1e-5"/>
      <origin rpy="0 0 0" xyz="0 0 0"/>
      <inertia ixx="1e-6" ixy="0" ixz="0" iyy="1e-6" iyz="0" izz="1e-6"/>
    </inertial>
  </link>
  <joint name="camera_optical_joint_rearDown" type="fixed">
    <origin rpy="-1.5707963267948966 0 -1.5707963267948966" xyz="0 0 0"/>
    <parent link="camera_rearDown"/>
    <child link="camera_optical_rearDown"/>
  </joint>
  <link name="camera_optical_rearDown">
        </link>
  <joint name="camera_laserscan_joint_left" type="fixed">
    <origin rpy="0 0.2618 0" xyz="0 0 0"/>
    <parent link="camera_left"/>
    <child link="camera_laserscan_link_left"/>
  </joint>
  <link name="camera_laserscan_link_left">
    </link>
  <joint name="camera_laserscan_joint_right" type="fixed">
    <origin rpy="0 0.2618 0" xyz="0 0 0"/>
    <parent link="camera_right"/>
    <child link="camera_laserscan_link_right"/>
  </joint>
  <link name="camera_laserscan_link_right">
    </link>
  <joint name="ultraSound_joint_left" type="fixed" dont_collapse="true">
    <origin rpy="0 0.2618 1.5707963267948966" xyz="-0.0535  0.0826 0.00868"/>
    <parent link="trunk"/>
    <child link="ultraSound_left"/>
  </joint>
  <link name="ultraSound_left">
    <!-- <collision>
      <origin rpy="0 0 0" xyz="0 0 0"/>
      <geometry>
        <box size=".001 .001 .001"/>
      </geometry>
    </collision> -->
    <visual>
      <origin rpy="0 0 0" xyz="0 0 0"/>
      <geometry>
        <mesh filename="../meshes/ultraSound.dae" scale="1 1 1"/>
      </geometry>
      <material name="black"/>
    </visual>
    <inertial>
      <mass value="1e-5"/>
      <origin rpy="0 0 0" xyz="0 0 0"/>
      <inertia ixx="1e-6" ixy="0" ixz="0" iyy="1e-6" iyz="0" izz="1e-6"/>
    </inertial>
  </link>
  <joint name="ultraSound_joint_right" type="fixed" dont_collapse="true">
    <origin rpy="0 0.2618 -1.5707963267948966" xyz="-0.0535 -0.0826 0.00868"/>
    <parent link="trunk"/>
    <child link="ultraSound_right"/>
  </joint>
  <link name="ultraSound_right" >
    <!-- <collision>
      <origin rpy="0 0 0" xyz="0 0 0"/>
      <geometry>
        <box size=".001 .001 .001"/>
      </geometry>
    </collision> -->
    <visual>
      <origin rpy="0 0 0" xyz="0 0 0"/>
      <geometry>
        <mesh filename="../meshes/ultraSound.dae" scale="1 1 1"/>
      </geometry>
      <material name="black"/>
    </visual>
    <inertial>
      <mass value="1e-5"/>
      <origin rpy="0 0 0" xyz="0 0 0"/>
      <inertia ixx="1e-6" ixy="0" ixz="0" iyy="1e-6" iyz="0" izz="1e-6"/>
    </inertial>
  </link>
  <joint name="ultraSound_joint_face" type="fixed" dont_collapse="true">
    <origin rpy="0 0 0" xyz="0.2747 0.0 -0.0088"/>
    <parent link="trunk"/>
    <child link="ultraSound_face"/>
  </joint>
  <link name="ultraSound_face" >
    <!-- <collision>
      <origin rpy="0 0 0" xyz="0 0 0"/>
      <geometry>
        <box size=".001 .001 .001"/>
      </geometry>
    </collision> -->
    <visual>
      <origin rpy="0 0 0" xyz="0 0 0"/>
      <geometry>
        <mesh filename="../meshes/ultraSound.dae" scale="1 1 1"/>
      </geometry>
      <material name="black"/>
    </visual>
    <inertial>
      <mass value="1e-5"/>
      <origin rpy="0 0 0" xyz="0 0 0"/>
      <inertia ixx="1e-6" ixy="0" ixz="0" iyy="1e-6" iyz="0" izz="1e-6"/>
    </inertial>
  </link>
</robot>
